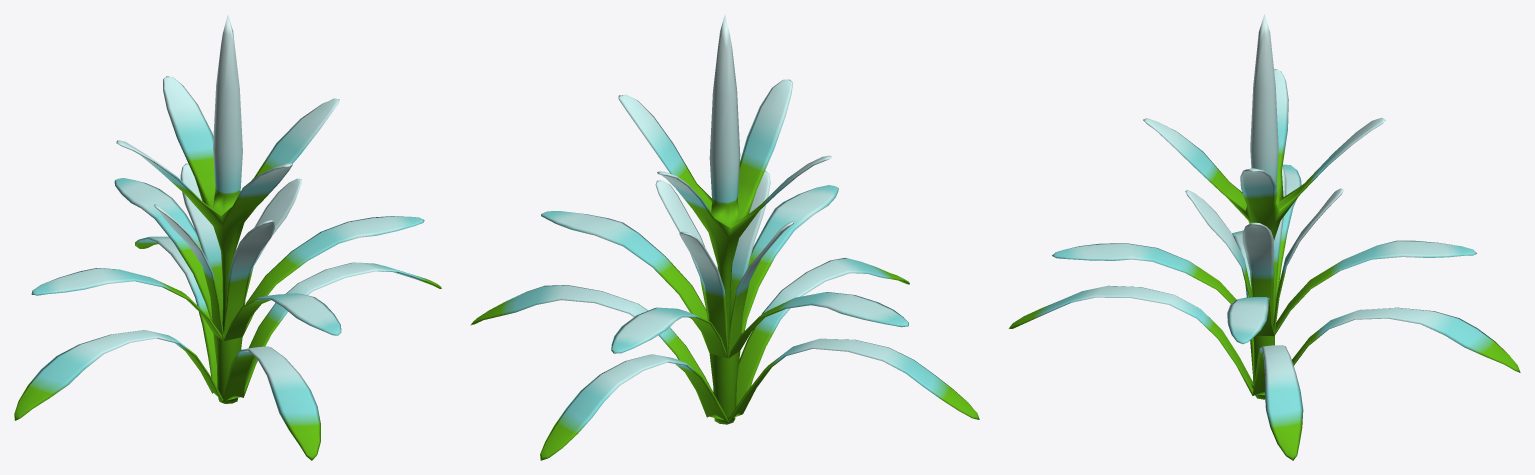
Rendered from Plant_5.fbx.
The picture shows the model from 3 angles, left to right: view 1: azimuth 30°, elevation 25°; view 2: azimuth 150°, elevation 25°; view 3: azimuth 270°, elevation 25°; orthographic projection. The views are drawn at different scales.
Parts seen in each view (by area): view 1: Plant_5; view 2: Plant_5; view 3: Plant_5.
Boxes of the visible parts, x1,y1,x2,y2 form: Plant_5: (14, 15, 441, 460); Plant_5: (470, 15, 979, 460); Plant_5: (1008, 14, 1520, 460).
Size of the model in its own units: 1.71 by 1.38 by 1.69.
